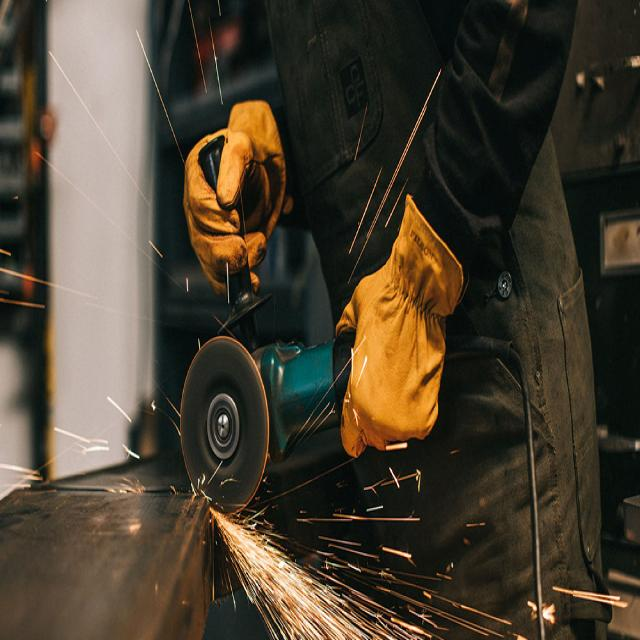gloves: (334, 182, 464, 463), (184, 90, 294, 300)
